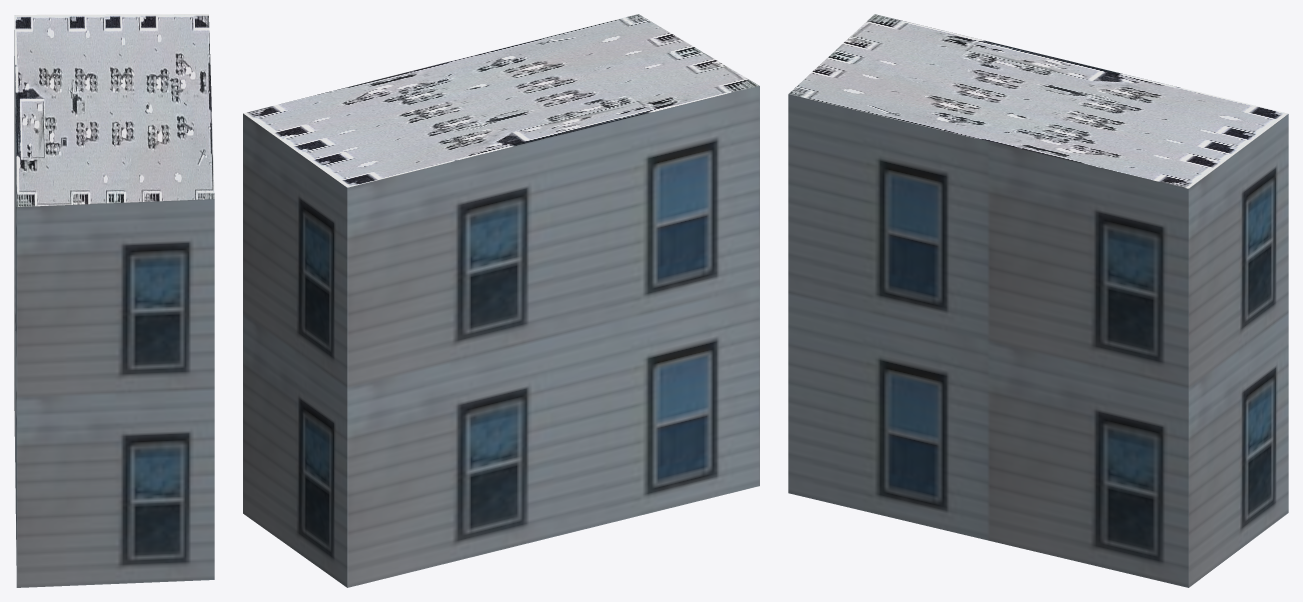
The model's file is ResTex__1008.fbx.
The picture shows the model from 3 angles, left to right: view 1: azimuth 30°, elevation 25°; view 2: azimuth 150°, elevation 25°; view 3: azimuth 270°, elevation 25°; orthographic projection. The views are drawn at different scales.
Visible parts, largest first — view 1: CityEngineMaterial_18_m, CityEngineMaterial_4_m; view 2: CityEngineMaterial_18_m, CityEngineMaterial_4_m; view 3: CityEngineMaterial_18_m, CityEngineMaterial_4_m.
Boxes of the visible parts, <box> form: CityEngineMaterial_18_m: <box>14,30,214,587</box>; CityEngineMaterial_4_m: <box>14,14,214,206</box>; CityEngineMaterial_18_m: <box>243,86,759,587</box>; CityEngineMaterial_4_m: <box>243,14,759,187</box>; CityEngineMaterial_18_m: <box>788,94,1288,587</box>; CityEngineMaterial_4_m: <box>788,14,1288,188</box>.
Size of the model in its own units: 5.64 by 6 by 6.82.
Materials: 2 (2 with a texture image).
